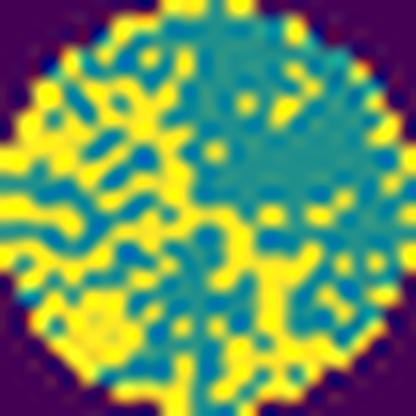Random: (0, 38, 381, 416)
